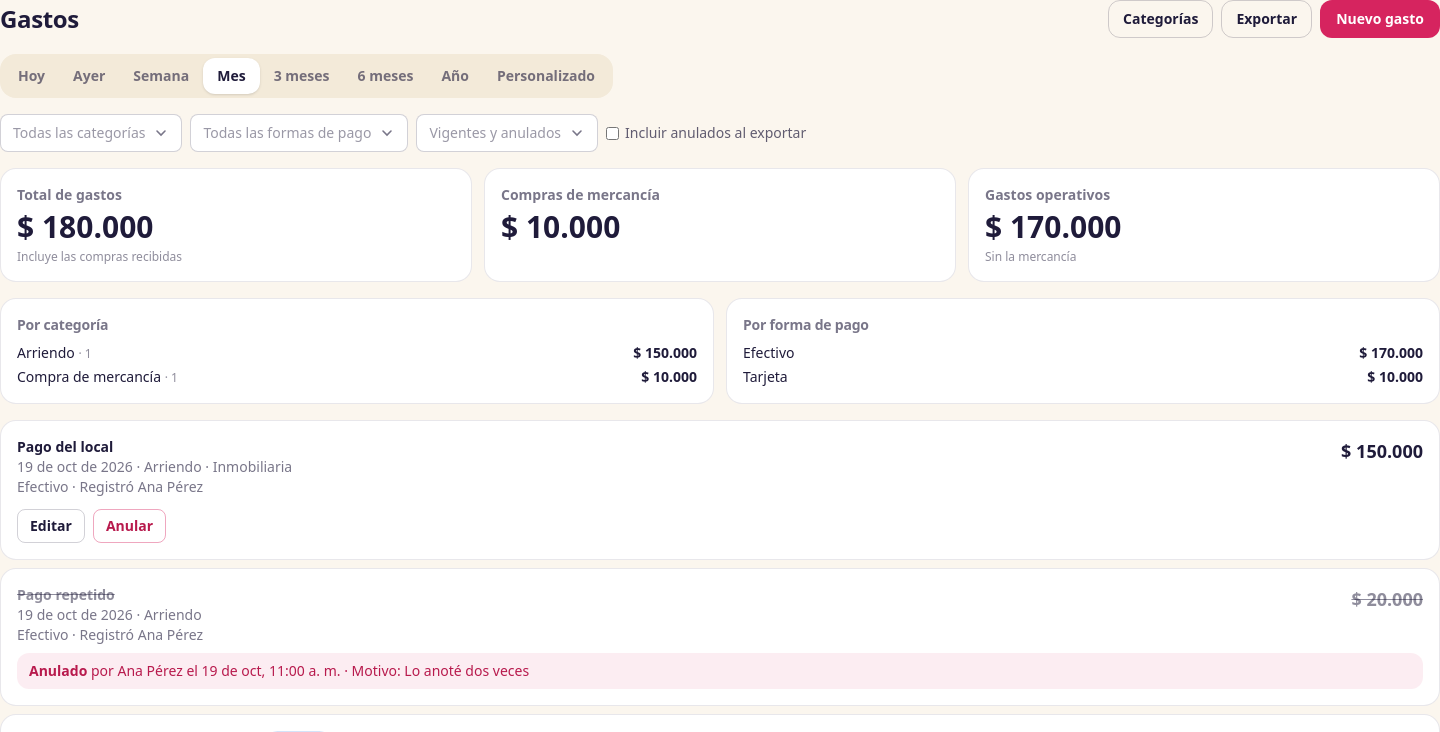
Gastos — administrador › avisa si se guarda sin cambios
The width and height of the screenshot is (1440, 732).
Expected: the text "Pago del local" is shown, [17,437,113,456]
Click the button with aria-label "Editar Pago del local" at (51, 526), box [17,509,85,543]
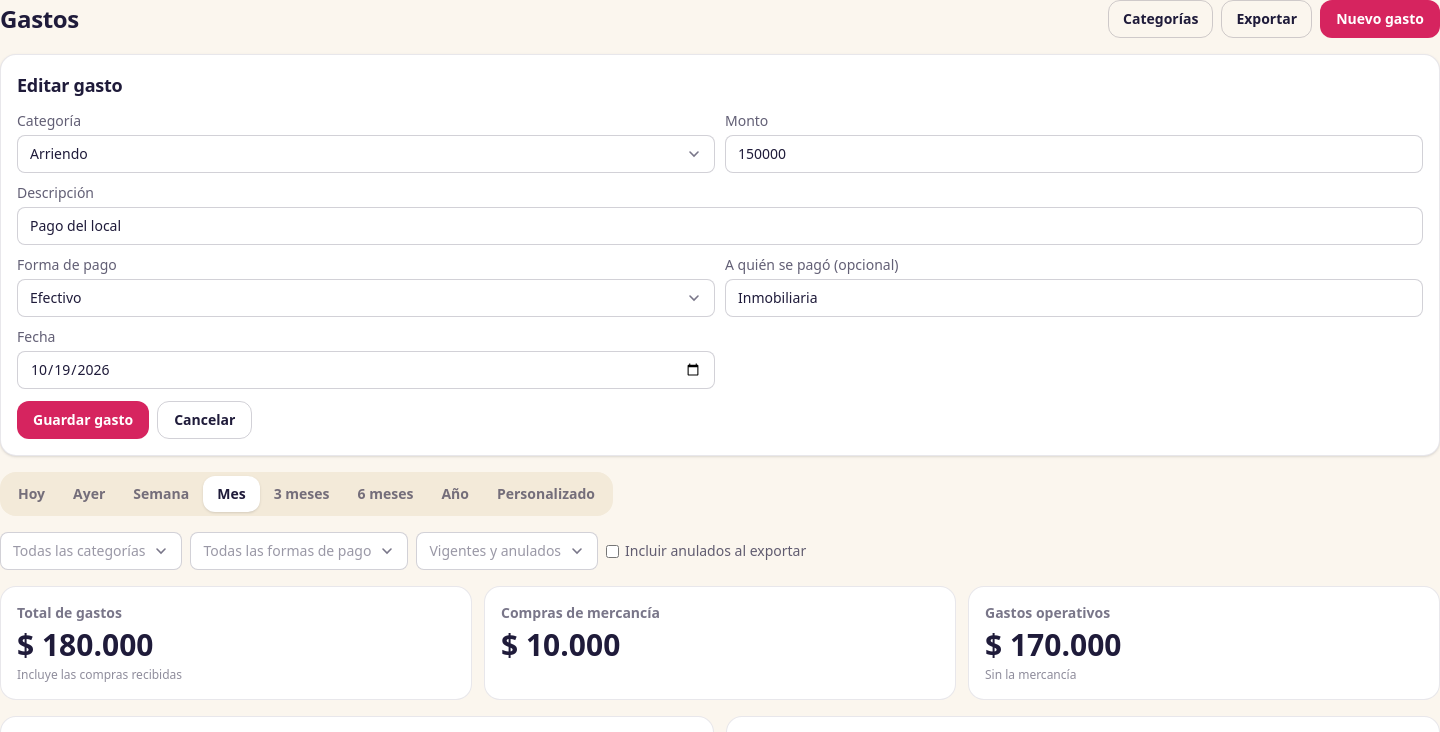
Click the button "Guardar gasto" at (83, 420), box [17,401,149,439]
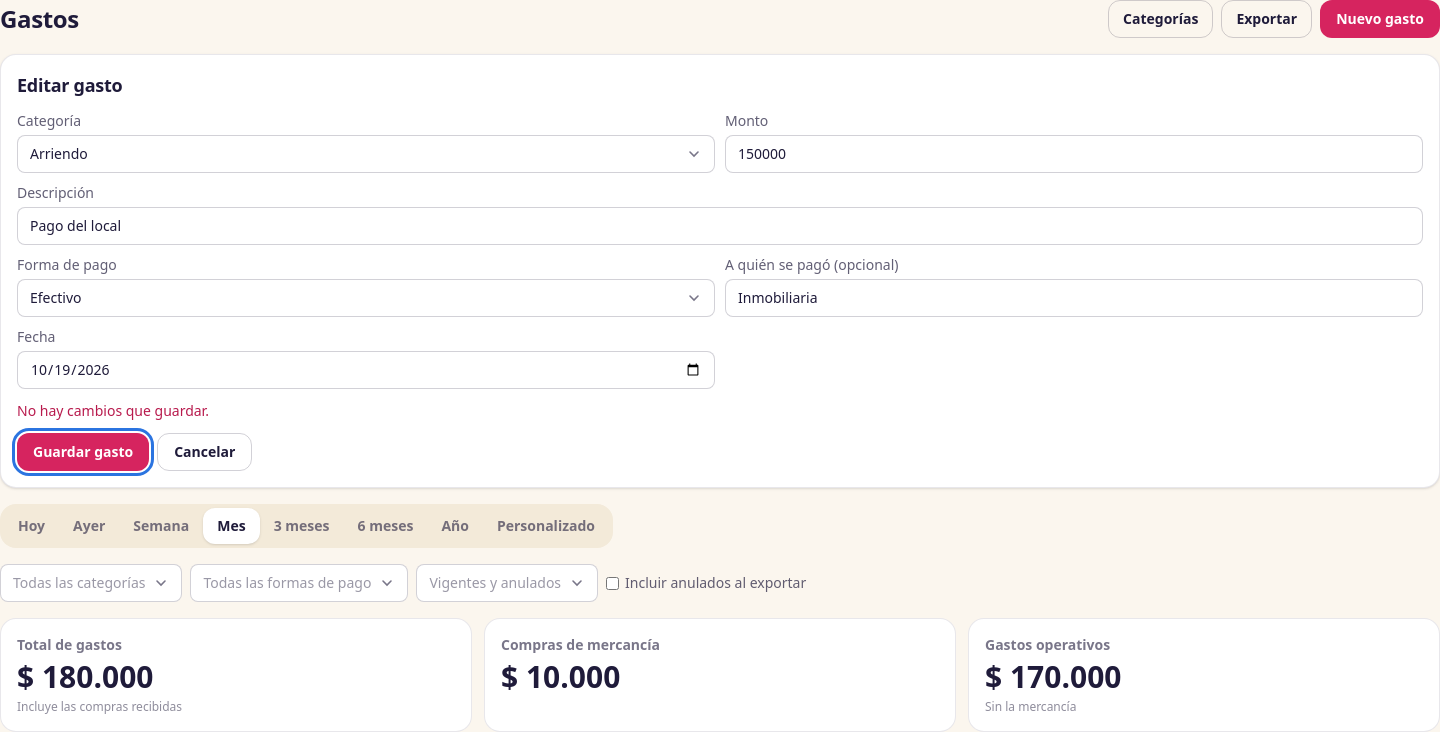
Expected: the message reads "No hay cambios que guardar.", [17,401,209,420]
